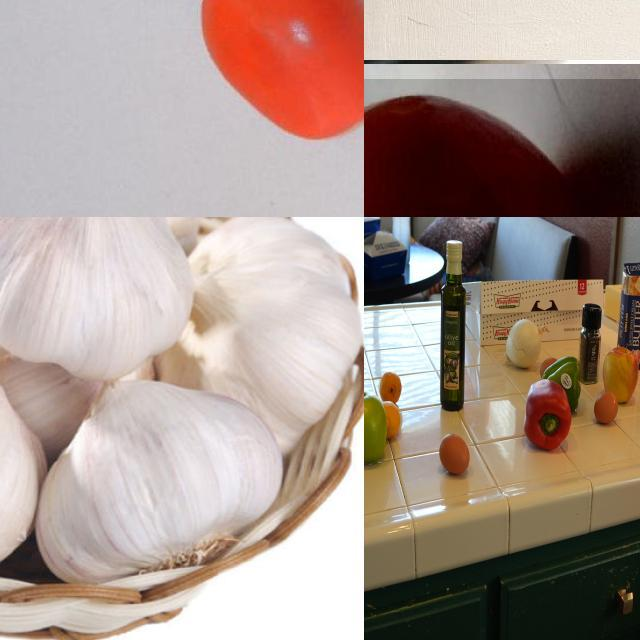bell_pepper: (523, 384, 575, 456), (545, 360, 586, 416), (580, 305, 604, 387)
egg: (439, 433, 471, 481), (591, 397, 627, 425), (539, 353, 561, 379)
garlic: (36, 377, 282, 582), (158, 218, 359, 444), (1, 218, 195, 377)
onion: (504, 319, 546, 369)
tomato: (178, 1, 365, 166)
